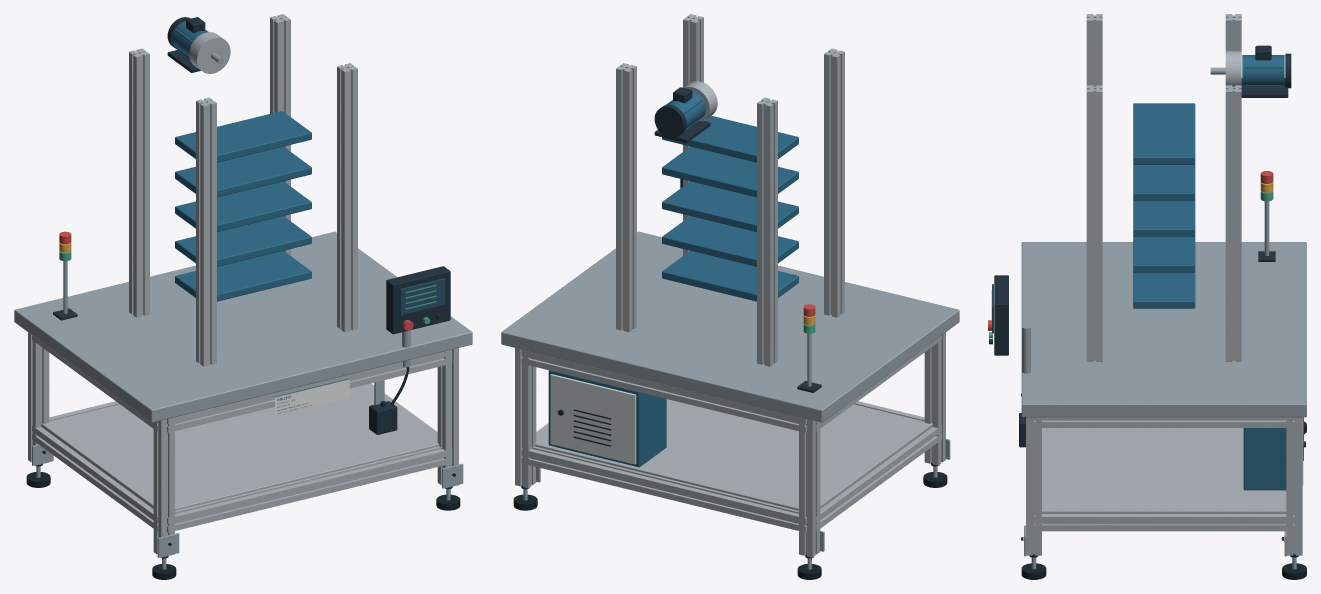
The model's file is step-feeder-cell.glb.
The picture shows the model from 3 angles, left to right: view 1: azimuth 30°, elevation 25°; view 2: azimuth 150°, elevation 25°; view 3: azimuth 270°, elevation 25°; orthographic projection. The views are drawn at different scales.
Parts seen in each view (by area): view 1: ClosedMachineBed_40, LowerShelf_41, SlottedExtrusion_34, SlottedExtrusion_72, SlottedExtrusion_74, SlottedExtrusion_71, CarrierStep_79, CarrierStep_78, CarrierStep_76, CarrierStep_77, SlottedExtrusion_35, CarrierStep_75 (+11 smaller); view 2: ClosedMachineBed_40, LowerShelf_41, BackDoor_43, SlottedExtrusion_32, SlottedExtrusion_71, SlottedExtrusion_73, SlottedExtrusion_72, SlottedExtrusion_33, CarrierStep_78, CarrierStep_76, CarrierStep_77, CarrierStep_75 (+10 smaller); view 3: ClosedMachineBed_40, LowerShelf_41, SlottedExtrusion_73, SlottedExtrusion_74, SlottedExtrusion_38, CarrierStep_79, SlottedExtrusion_39, Cabinet_42, CarrierStep_75, CarrierStep_76, CarrierStep_77, SlottedExtrusion_19 (+9 smaller).
Part boxes in pixels (x1=…): ClosedMachineBed_40: x1=14, y1=231, x2=472, y2=422; LowerShelf_41: x1=41, y1=384, x2=439, y2=510; SlottedExtrusion_34: x1=167, y1=446, x2=452, y2=532; SlottedExtrusion_72: x1=196, y1=97, x2=216, y2=366; SlottedExtrusion_74: x1=337, y1=63, x2=357, y2=332; SlottedExtrusion_71: x1=129, y1=48, x2=149, y2=317; CarrierStep_79: x1=175, y1=111, x2=311, y2=162; CarrierStep_78: x1=175, y1=146, x2=311, y2=197; CarrierStep_76: x1=175, y1=216, x2=311, y2=266; CarrierStep_77: x1=175, y1=181, x2=311, y2=231; SlottedExtrusion_35: x1=167, y1=349, x2=452, y2=432; CarrierStep_75: x1=175, y1=250, x2=311, y2=301; ClosedMachineBed_40: x1=501, y1=231, x2=959, y2=422; LowerShelf_41: x1=534, y1=399, x2=932, y2=510; BackDoor_43: x1=550, y1=374, x2=636, y2=464; SlottedExtrusion_32: x1=521, y1=446, x2=806, y2=532; SlottedExtrusion_71: x1=757, y1=97, x2=777, y2=366; SlottedExtrusion_73: x1=616, y1=63, x2=636, y2=332; SlottedExtrusion_72: x1=824, y1=48, x2=844, y2=317; SlottedExtrusion_33: x1=521, y1=349, x2=806, y2=432; CarrierStep_78: x1=662, y1=146, x2=798, y2=197; CarrierStep_76: x1=662, y1=216, x2=798, y2=266; CarrierStep_77: x1=662, y1=181, x2=798, y2=231; CarrierStep_75: x1=662, y1=250, x2=798, y2=301; ClosedMachineBed_40: x1=1021, y1=242, x2=1306, y2=417; LowerShelf_41: x1=1042, y1=428, x2=1286, y2=513; SlottedExtrusion_73: x1=1225, y1=85, x2=1241, y2=361; SlottedExtrusion_74: x1=1086, y1=85, x2=1102, y2=361; SlottedExtrusion_38: x1=1034, y1=514, x2=1294, y2=531; CarrierStep_79: x1=1133, y1=103, x2=1195, y2=164; SlottedExtrusion_39: x1=1034, y1=417, x2=1294, y2=427; Cabinet_42: x1=1243, y1=428, x2=1286, y2=490; CarrierStep_75: x1=1133, y1=272, x2=1195, y2=308; CarrierStep_76: x1=1133, y1=236, x2=1195, y2=272; CarrierStep_77: x1=1133, y1=200, x2=1195, y2=236; SlottedExtrusion_19: x1=1286, y1=417, x2=1302, y2=555.
Size of the model in its own units: 1.55 by 2.02 by 1.29.
11 materials, 3 textured.
